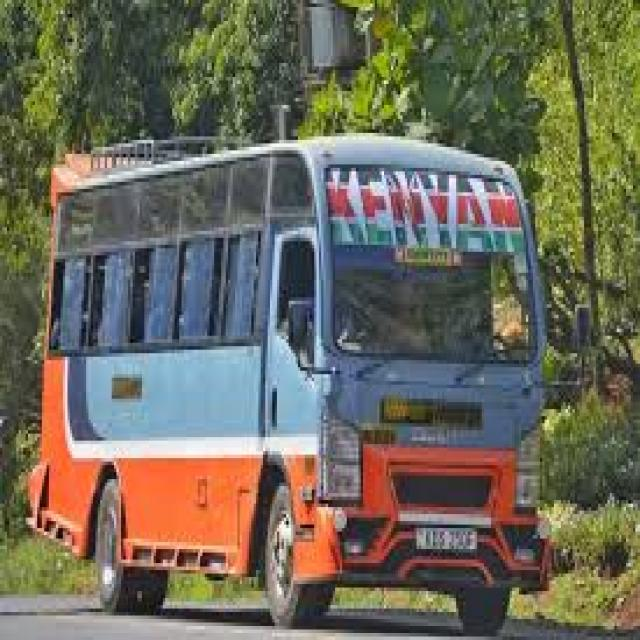bus: (18, 60, 564, 636)
